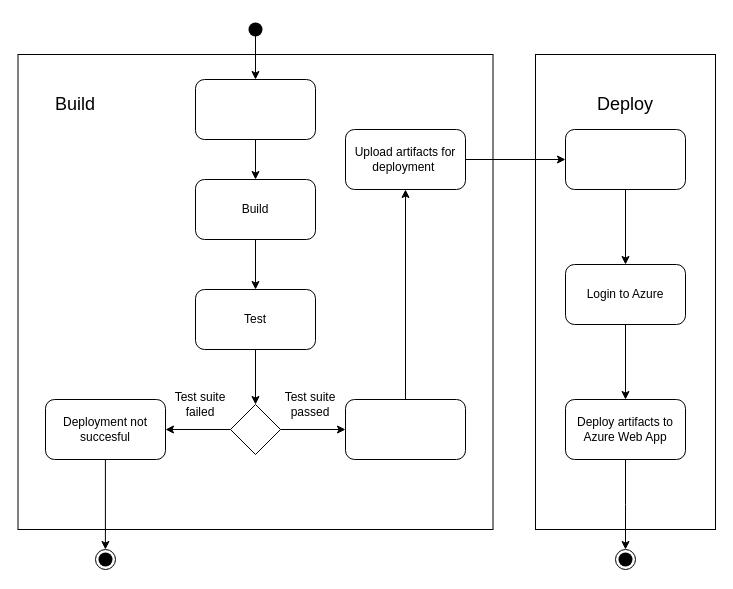
Image size: 733x589. Some labels were removed from this diagram. Here are the shapes that lost their labels. From the top down, the box of each, then its label:
(194, 78, 316, 140): Set up .NET Core
(564, 128, 686, 190): Download artifact from build job
(344, 398, 466, 460): Publish artifacts from project
